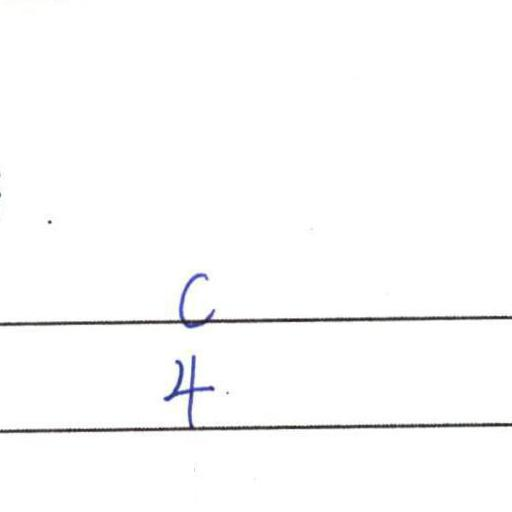ans: (157, 347, 214, 427), (170, 265, 218, 330)
